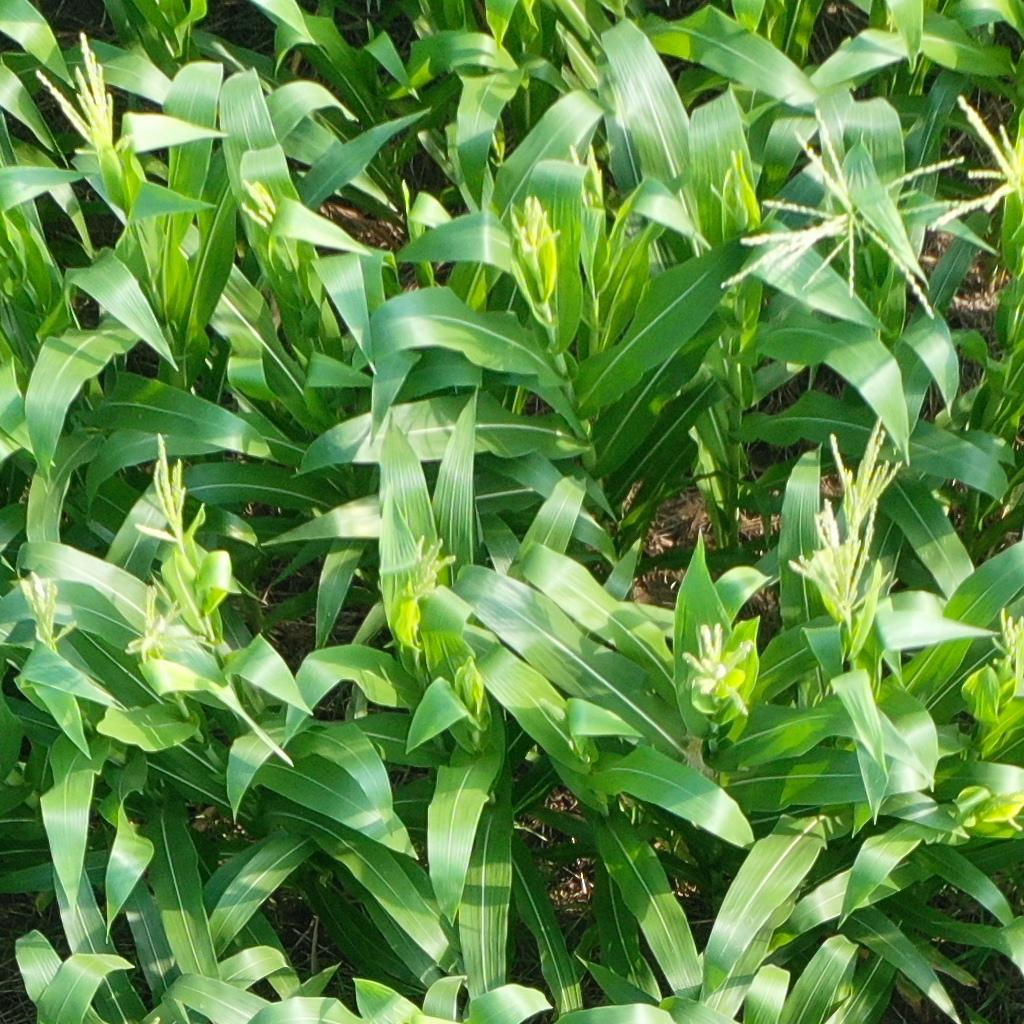Tassel: (711, 109, 968, 321), (925, 88, 1024, 232), (31, 28, 135, 160), (787, 494, 895, 620), (824, 416, 909, 542), (125, 431, 199, 549), (679, 617, 758, 724), (119, 582, 209, 670), (373, 532, 460, 601), (17, 570, 79, 651), (509, 192, 563, 268), (568, 139, 617, 210), (233, 175, 281, 229), (711, 148, 748, 215), (988, 603, 1024, 669), (978, 788, 1024, 832)
